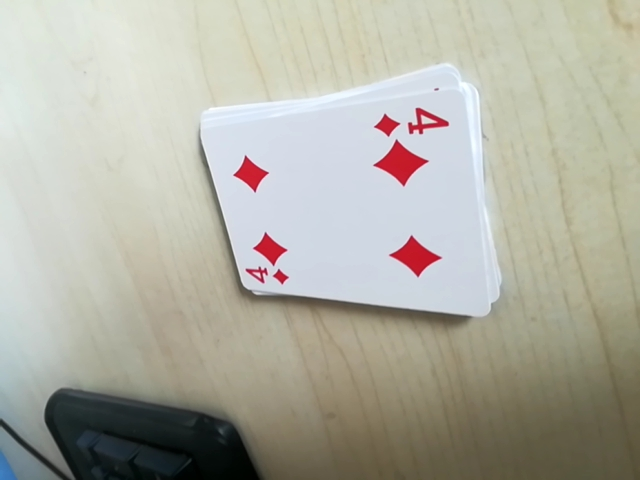fk 4: (378, 96, 453, 142), (239, 260, 294, 292)
